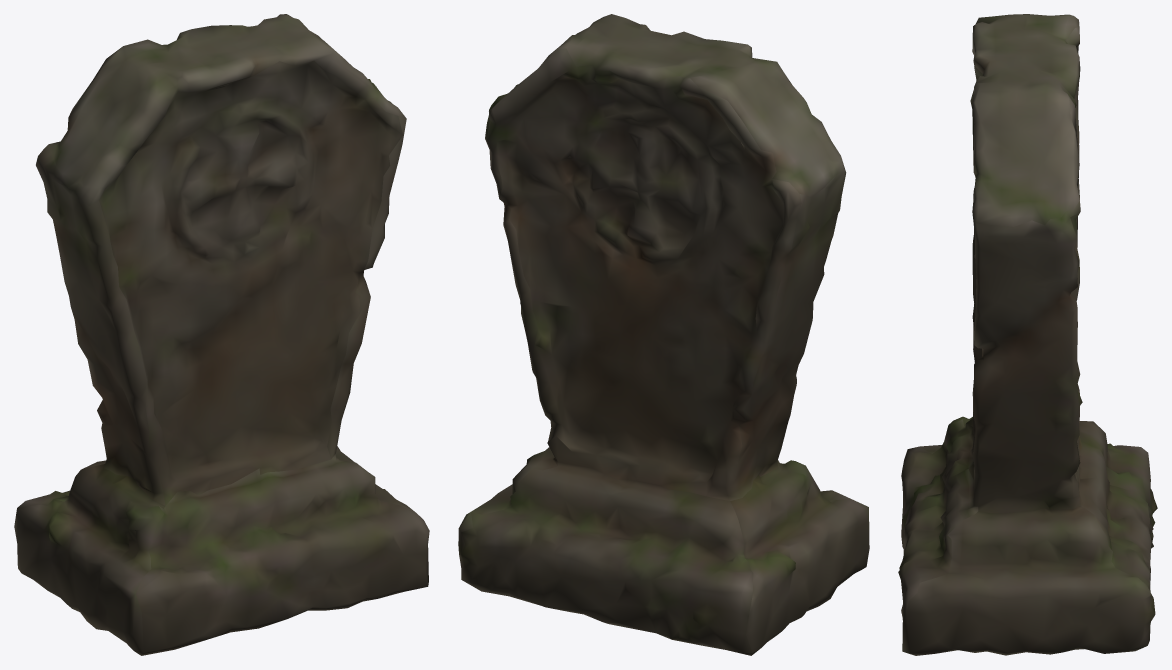
Rendered from Tombstone_03.fbx.
3 views of the same model, side by side, from view 1: azimuth 30°, elevation 25°; view 2: azimuth 150°, elevation 25°; view 3: azimuth 270°, elevation 25° (orthographic).
Parts seen in each view (by area): view 1: Tombstone_03; view 2: Tombstone_03; view 3: Tombstone_03.
Part boxes in pixels (x1,y1,x2,y2): Tombstone_03: (14,14,429,655); Tombstone_03: (458,14,869,655); Tombstone_03: (898,14,1157,655).
Size of what is drawn, in the model's own units: 89.63 by 141 by 62.14.
